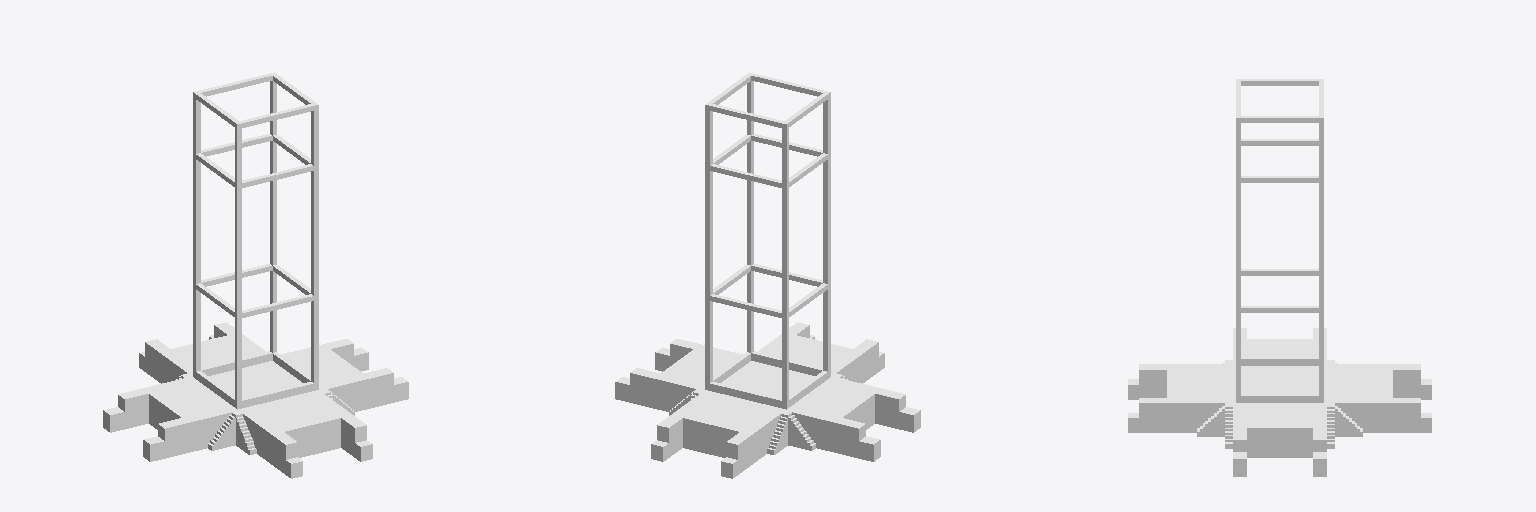
File: SC_Crane.obj
3 renders of one model, left to right at view 1: azimuth 30°, elevation 25°; view 2: azimuth 150°, elevation 25°; view 3: azimuth 270°, elevation 25°, orthographic.
Bounding box in the file's own units: 108 × 126 × 110.